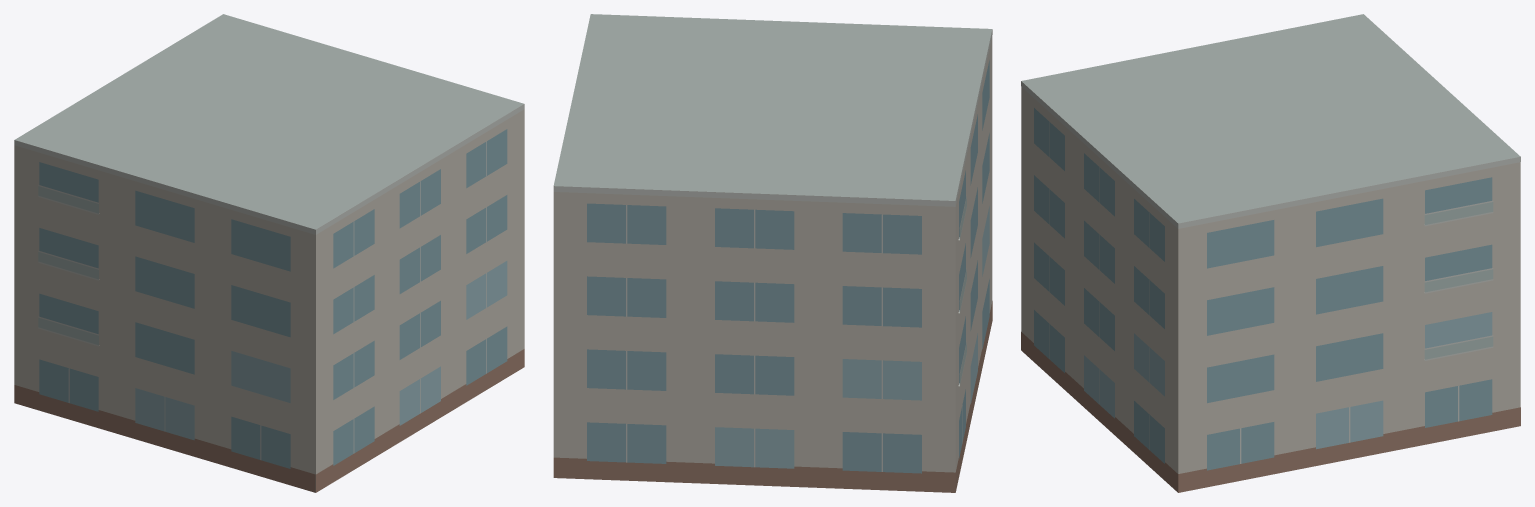
The model's file is survey-upis-32905528.glb.
3 renders of one model, left to right at view 1: azimuth 30°, elevation 25°; view 2: azimuth 150°, elevation 25°; view 3: azimuth 270°, elevation 25°, orthographic. The views are drawn at different scales.
Visible parts, largest first — view 1: survey-upis-32905528.tmp; view 2: survey-upis-32905528.tmp; view 3: survey-upis-32905528.tmp.
Boxes of the visible parts, <box> form: survey-upis-32905528.tmp: <box>14,14,524,492</box>; survey-upis-32905528.tmp: <box>553,14,992,492</box>; survey-upis-32905528.tmp: <box>1021,14,1520,492</box>.
Bounding box in the file's own units: 20.37 × 12.2 × 20.52.
